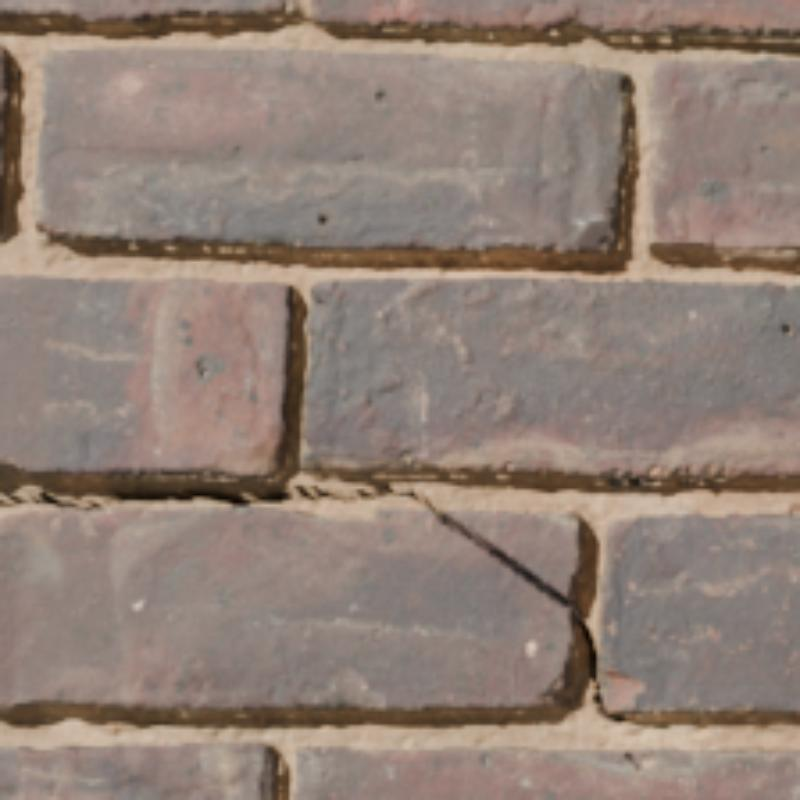crack: (371, 486, 625, 718), (0, 486, 329, 507)
